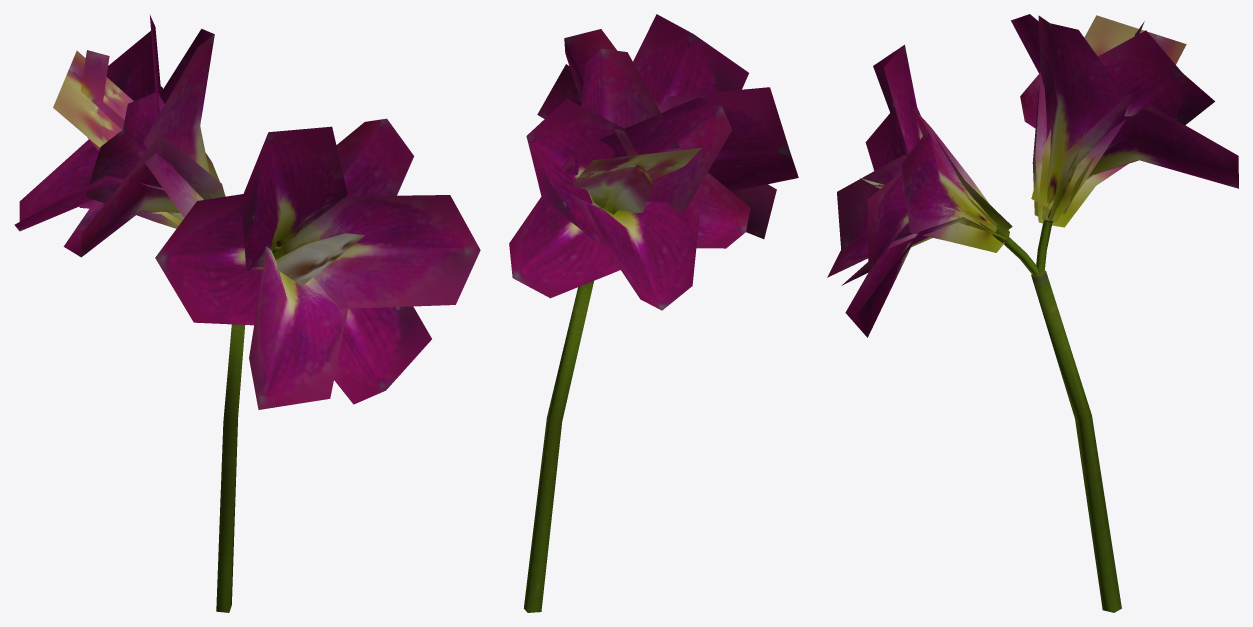
File: Amaryllis_baby_short_magenta.glb
3 renders of one model, left to right at view 1: azimuth 30°, elevation 25°; view 2: azimuth 150°, elevation 25°; view 3: azimuth 270°, elevation 25°, orthographic. The views are drawn at different scales.
Parts seen in each view (by area): view 1: baby; view 2: baby; view 3: baby.
Part boxes in pixels (bbox=[...]): baby: bbox=[14, 14, 480, 612]; baby: bbox=[509, 14, 798, 612]; baby: bbox=[827, 14, 1238, 612].
Bounding box in the file's own units: 0.6819 × 1.24 × 0.8184.
1 material, 1 textured.
